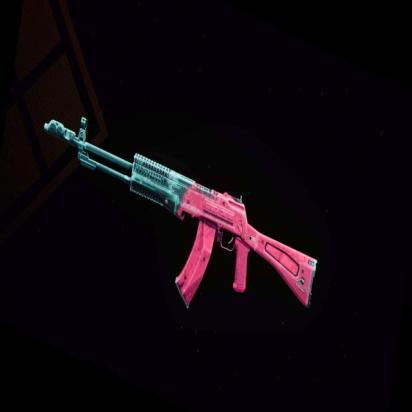Gun: (43, 102, 320, 320)
